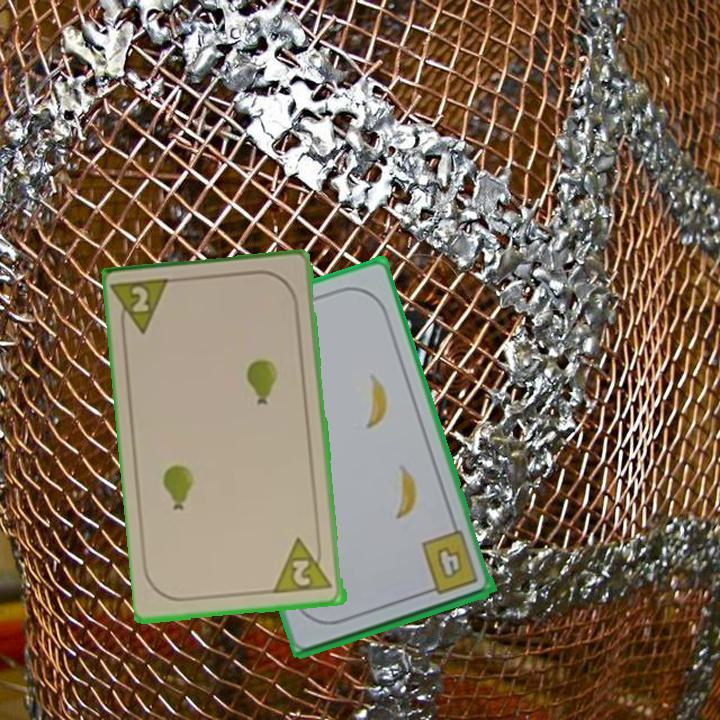2p: (111, 275, 176, 340), (272, 533, 336, 597)
4b: (417, 527, 481, 598)
